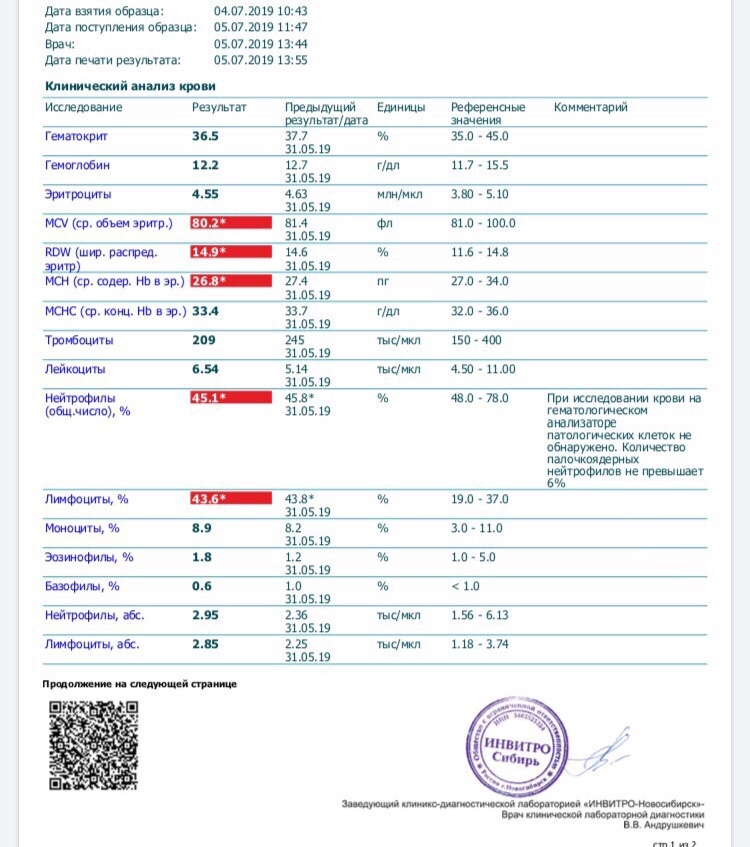column: (546, 97, 704, 664), (44, 97, 187, 664), (284, 97, 369, 664), (449, 97, 526, 664), (191, 97, 248, 664), (376, 97, 426, 664)
